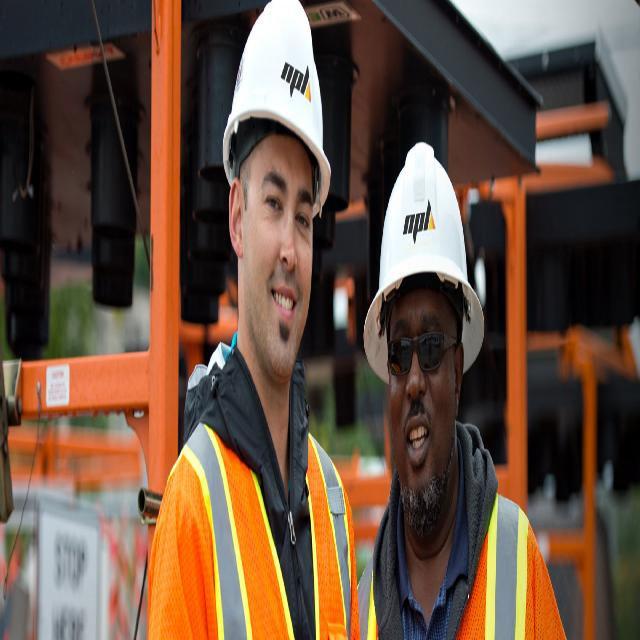Reflective-Jacket: (153, 342, 358, 640), (363, 473, 551, 640)
Safety-Helmet: (360, 129, 484, 389), (220, 0, 334, 211)
